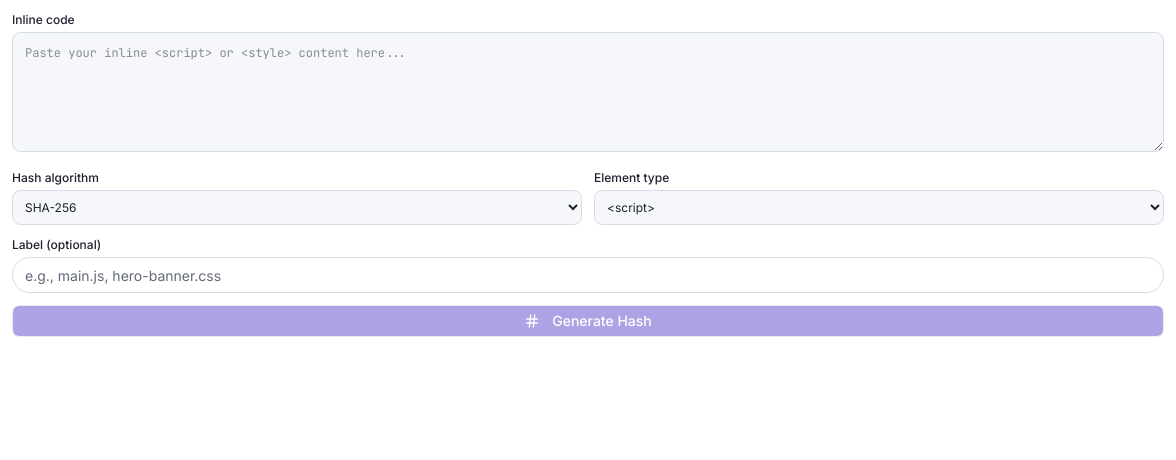
<HashGenerator /> › generates a SHA-384 hash when selected
Type "test code" into the text box with test id "hash-code-input" at {"x": 588, "y": 92}, box [12,32,1164,152]
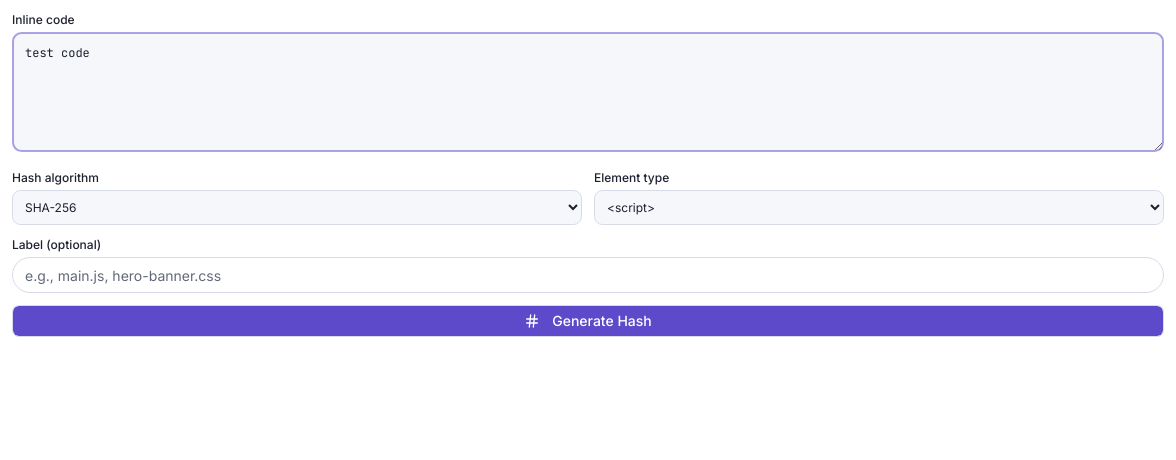
Select "SHA-384" in the dropdown with test id "hash-algorithm-select" at {"x": 297, "y": 208}, box [12,190,582,225]
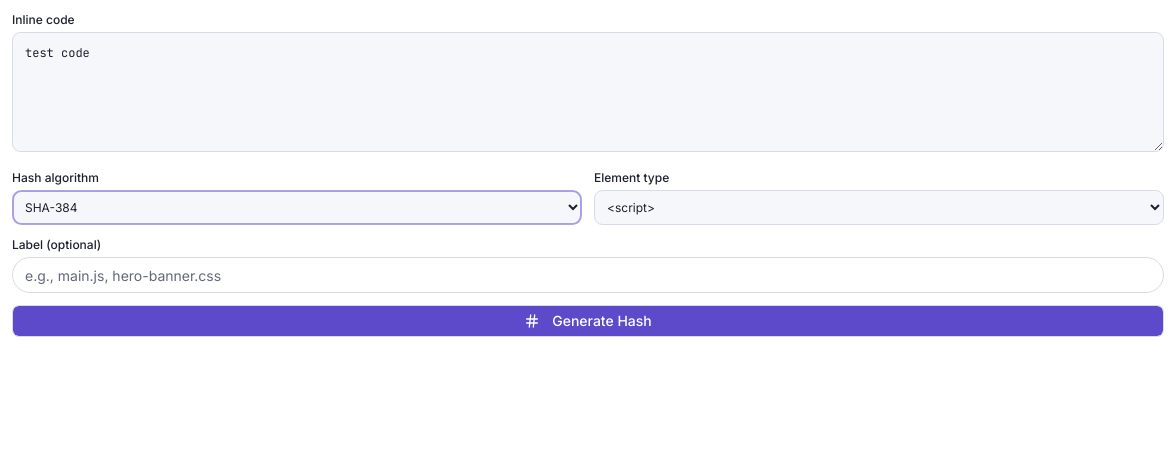
Click the button with test id "hash-generate-button" at {"x": 588, "y": 321}, box [12,305,1164,337]
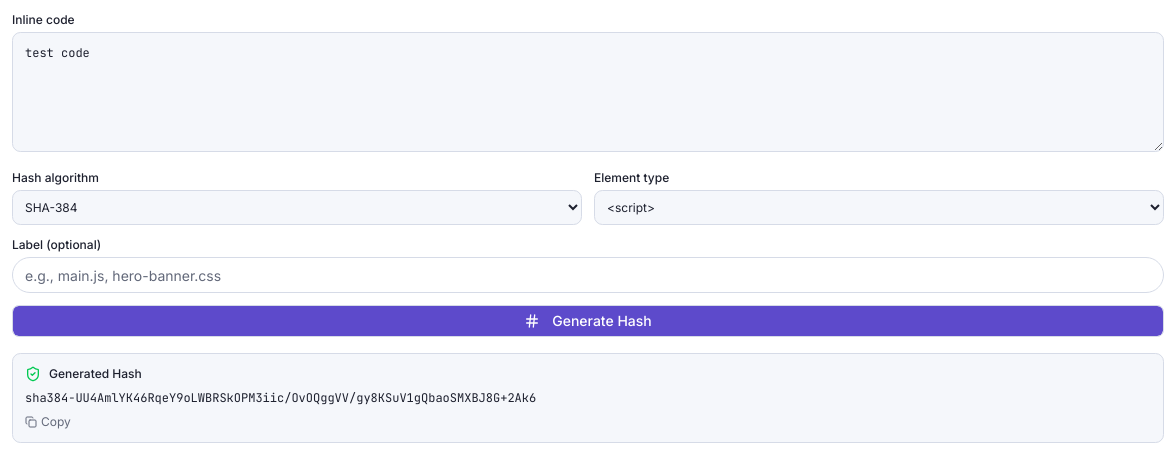
expect the element with test id "hash-result" is shown: met, box [12,353,1164,443]
expect the element with test id "hash-result" shows "sha384-": met, box [25,390,536,406]
